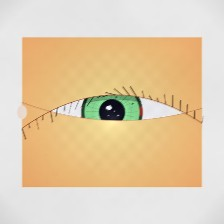hemorrhage_spot: (70, 85, 151, 150)
